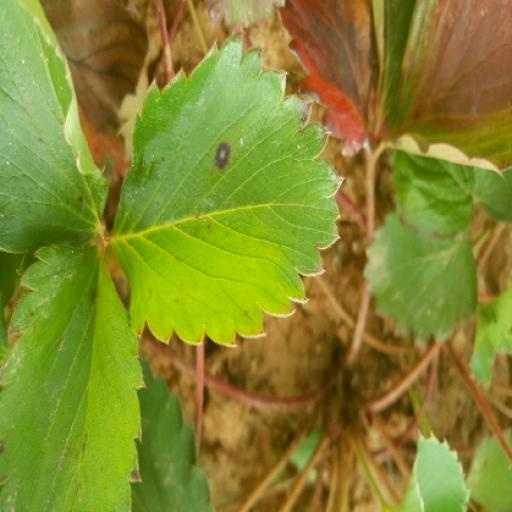Leaf Spot: (165, 166, 402, 480), (365, 0, 511, 269), (400, 258, 511, 511)
